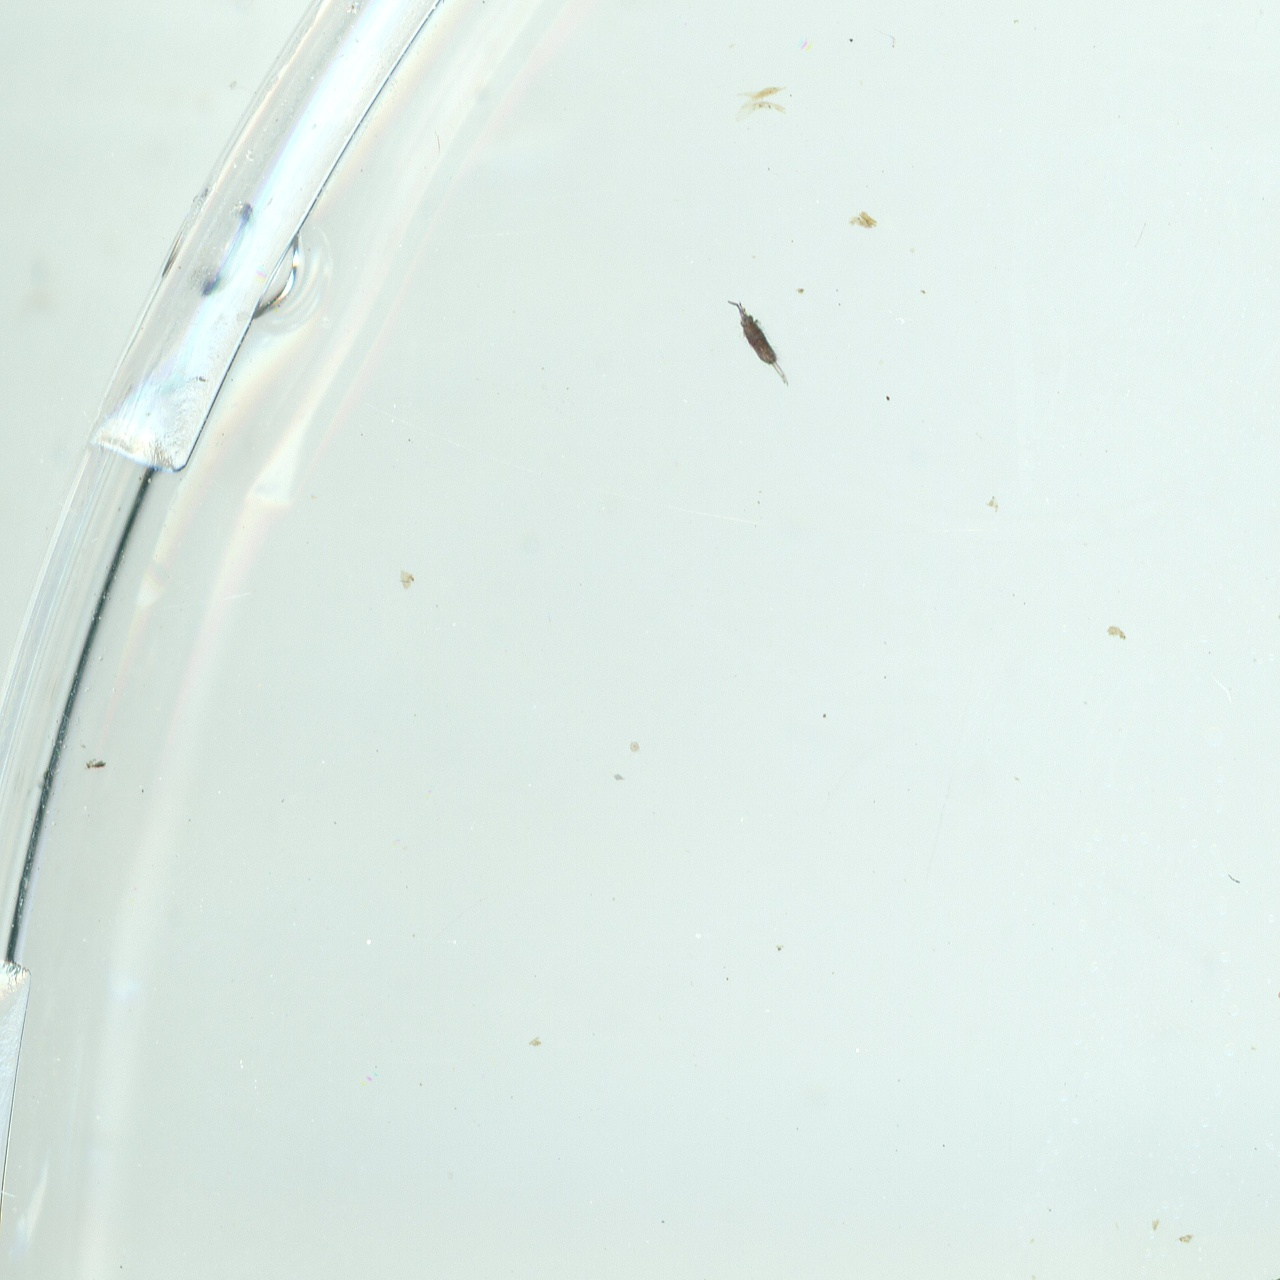arthropod: (714, 286, 801, 401)
